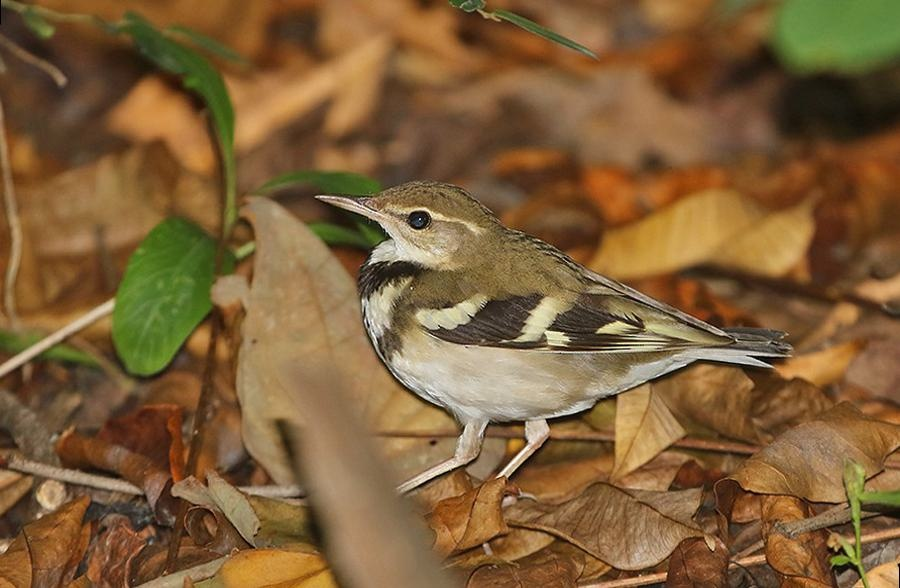wagtail: (321, 160, 777, 494)
